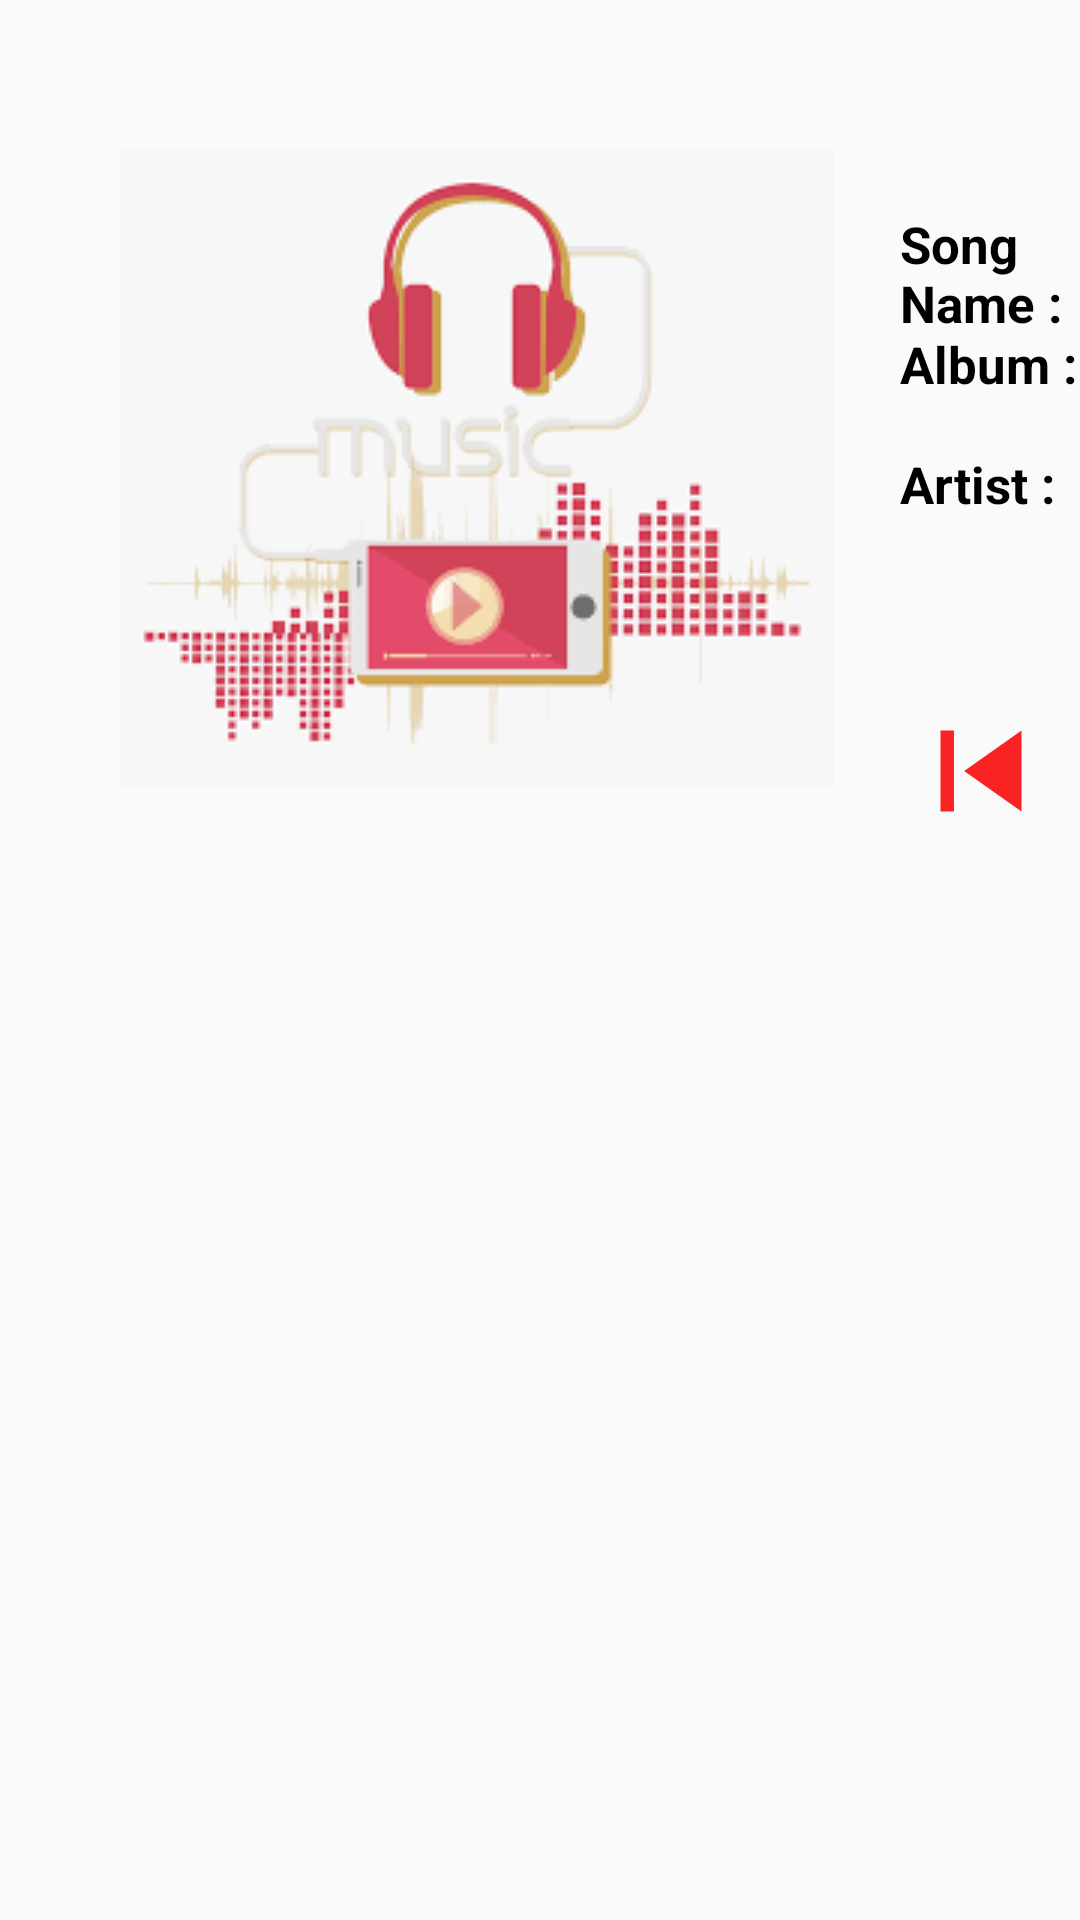

Icon click points for this 1080x1920 phone screenshot, format [x,y]:
skip previous: [981,771]
